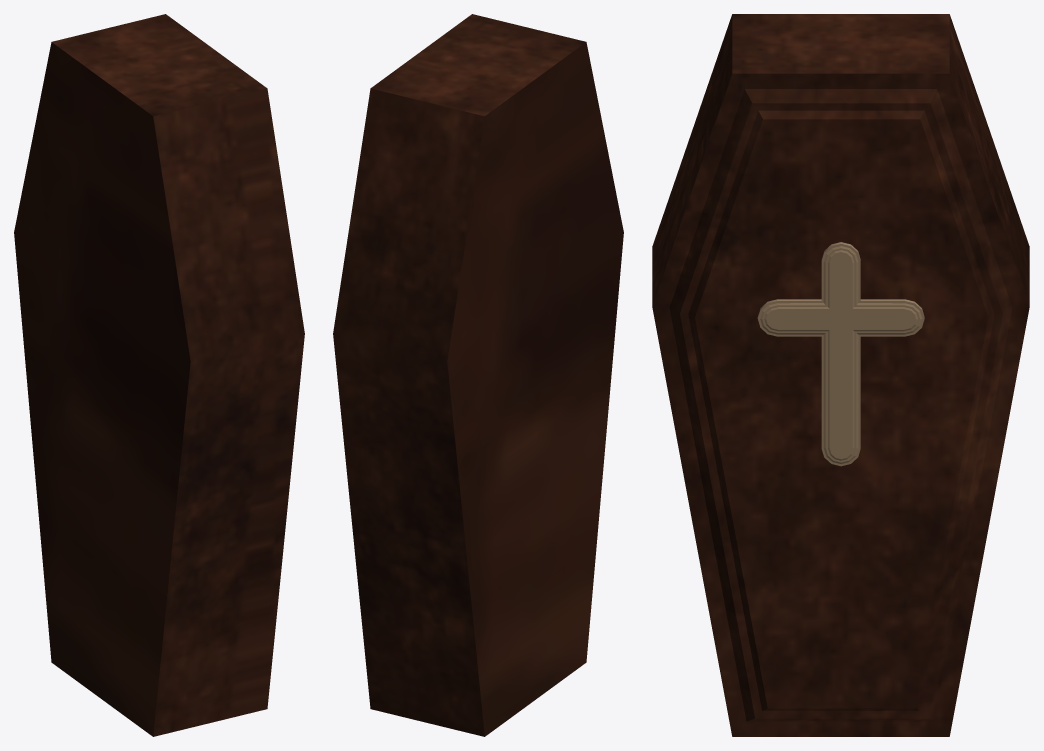
Rendered from coffin.glb.
The picture shows the model from 3 angles, left to right: view 1: azimuth 30°, elevation 25°; view 2: azimuth 150°, elevation 25°; view 3: azimuth 270°, elevation 25°; orthographic projection. The views are drawn at different scales.
Visible parts, largest first — view 1: Coffin; view 2: Coffin; view 3: Coffin.
Part boxes in pixels (x1,y1,x2,y2): Coffin: (14,14,304,736); Coffin: (333,14,623,736); Coffin: (652,14,1029,736).
Bounding box in the file's own units: 0.4371 × 1.96 × 1.01.
1 material, 1 textured.
